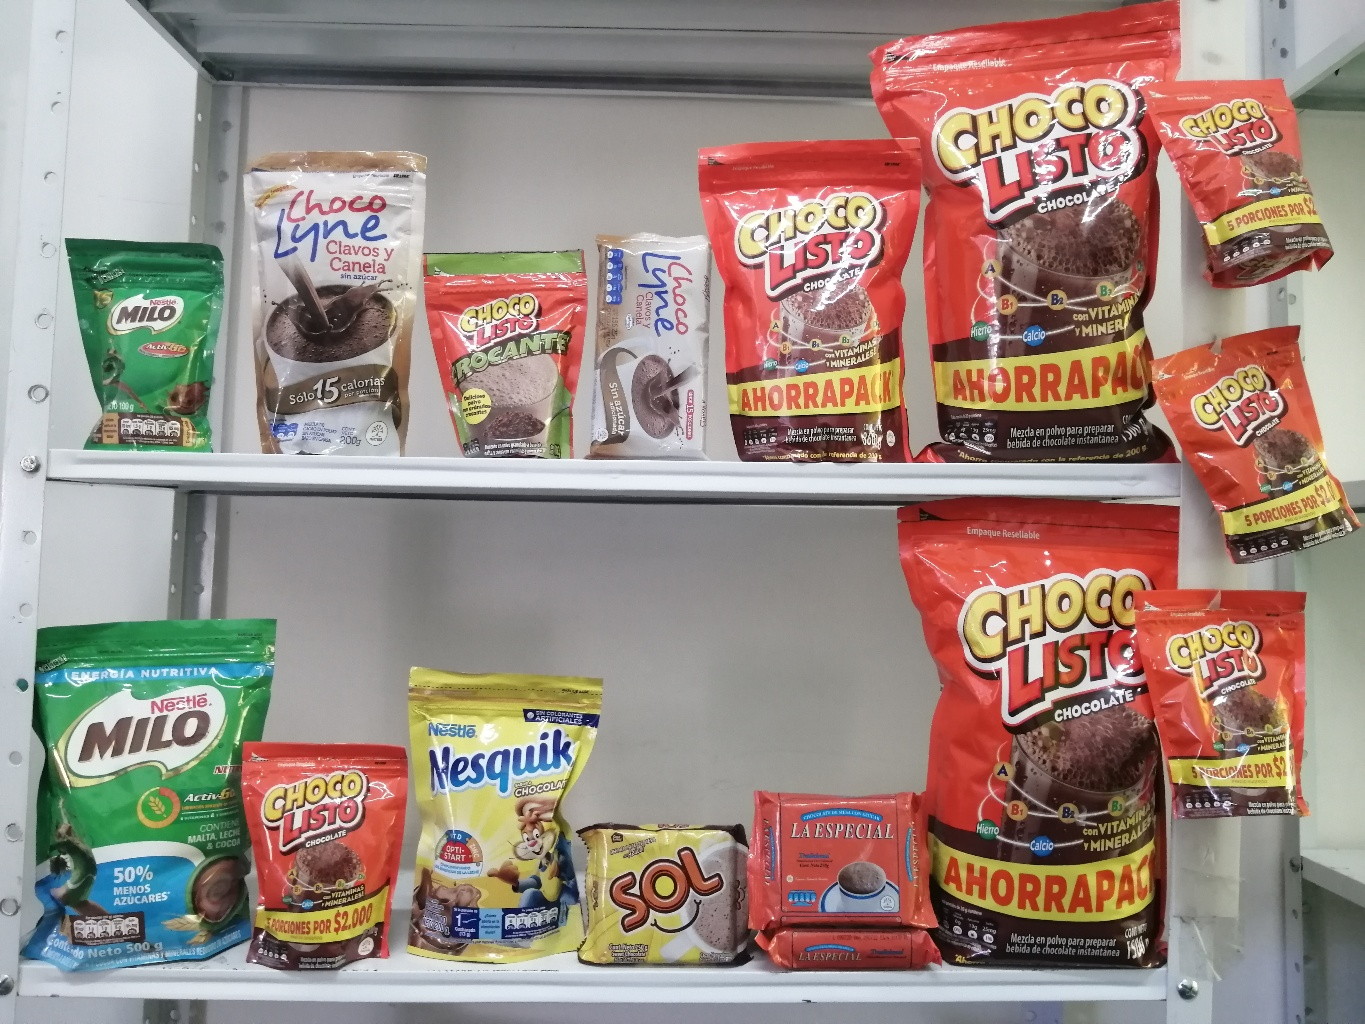COL0170102DYP10000: (411, 224, 589, 464)
COL0170103DYP1,500: (872, 482, 1229, 982)
COL0170103DYP10000: (1124, 561, 1343, 841)
COL0170103DYP36000: (679, 123, 945, 466)
COL0170203DYP10000: (52, 219, 252, 466)
COL0170205DYP50000: (23, 601, 301, 973)
COL0170303DYP20000: (362, 632, 609, 975)
